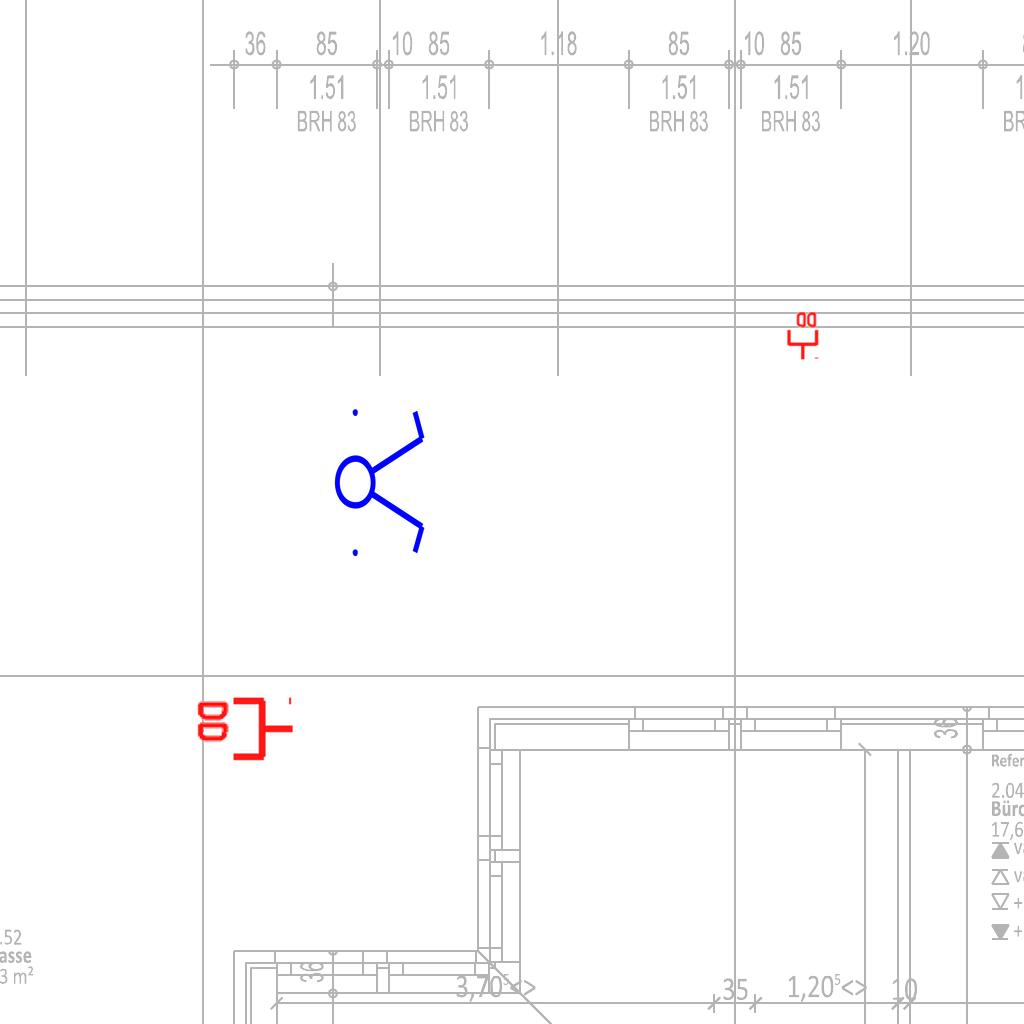Datenanschluss_zweifach: (193, 696, 296, 765), (785, 310, 819, 361)
Serienschalter: (333, 397, 429, 565)
